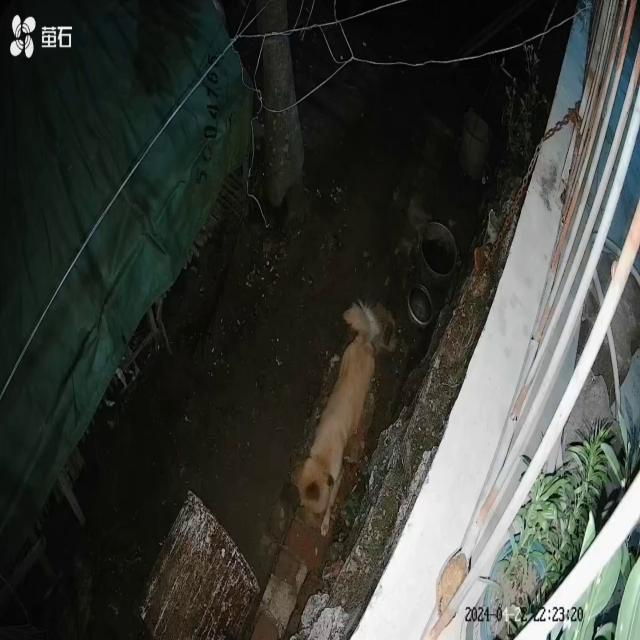dog: (296, 298, 394, 538)
